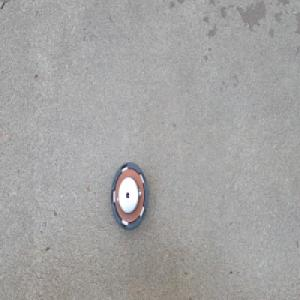FuelCap: (110, 160, 150, 234)
